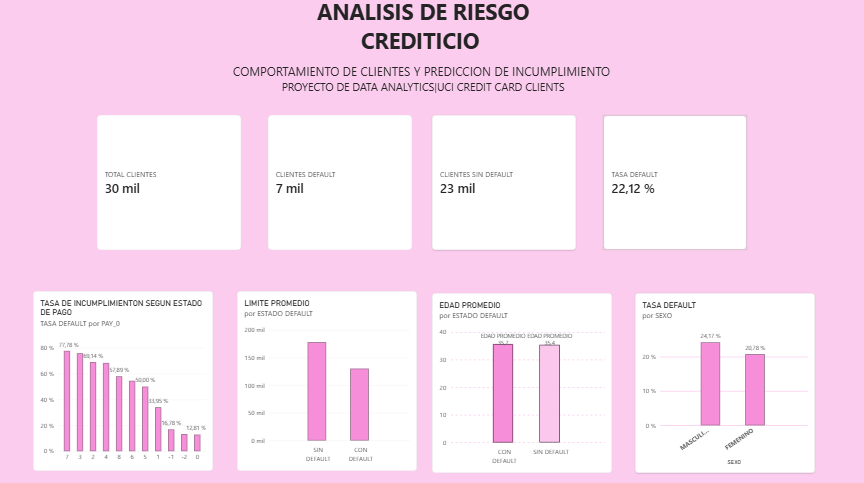

This screenshot's page, from the dashboard's own definition file:
{"tool":"powerbi","page":{"name":"Página 1","canvas":[1920,1080],"ordinal":0},"visuals":[{"type":"clusteredColumnChart","fields":{"Category":["credit_card_clients.SEXO"],"Y":["credit_card_clients.tasa default"]},"box":[1410,657.5,400,400],"z":3000},{"type":"clusteredColumnChart","title":"TASA DE INCUMPLIMIENTON SEGUN ESTADO DE PAGO","fields":{"Category":["credit_card_clients.PAY_0"],"Y":["credit_card_clients.TASA DEFAULT","select"]},"box":[72.5,652.5,400,400],"z":4000},{"type":"clusteredColumnChart","fields":{"Category":["credit_card_clients.ESTADO DEFAULT"],"Y":["credit_card_clients.LIMITE PROMEDIO"]},"box":[527.5,652.5,400,400],"z":4001},{"type":"clusteredColumnChart","fields":{"Category":["credit_card_clients.ESTADO DEFAULT"],"Y":["credit_card_clients.EDAD PROMEDIO"]},"box":[960,657.5,400,400],"z":4002},{"type":"textbox","box":[117.5,0,1645,280],"z":4003},{"type":"cardVisual","fields":{"Data":["credit_card_clients.TOTAL CLIENTES"]},"box":[215,262.5,320,300],"z":4004},{"type":"cardVisual","fields":{"Data":["credit_card_clients.CLIENTES DEFAULT"]},"box":[595,262.5,320,300],"z":4005},{"type":"cardVisual","fields":{"Data":["credit_card_clients.CLIENTES SIN DEFAULT"]},"box":[960,262.5,320,300],"z":4006},{"type":"cardVisual","fields":{"Data":["credit_card_clients.TASA DEFAULT"]},"box":[1340,262.5,320,300],"z":4007}]}

Visuals, with their boxes in screenshot pixels (x1, y1, x2, y2), scaled from the page's 1920x1080 canvas onto the 864x483 screenshot:
clusteredColumnChart - credit_card_clients.SEXO x credit_card_clients.tasa default: bbox=(634, 294, 814, 473)
"TASA DE INCUMPLIMIENTON SEGUN ESTADO DE PAGO" clusteredColumnChart: bbox=(33, 292, 213, 471)
clusteredColumnChart - credit_card_clients.ESTADO DEFAULT x credit_card_clients.LIMITE PROMEDIO: bbox=(237, 292, 417, 471)
clusteredColumnChart - credit_card_clients.ESTADO DEFAULT x credit_card_clients.EDAD PROMEDIO: bbox=(432, 294, 612, 473)
textbox: bbox=(53, 0, 793, 125)
cardVisual - credit_card_clients.TOTAL CLIENTES: bbox=(97, 117, 241, 252)
cardVisual - credit_card_clients.CLIENTES DEFAULT: bbox=(268, 117, 412, 252)
cardVisual - credit_card_clients.CLIENTES SIN DEFAULT: bbox=(432, 117, 576, 252)
cardVisual - credit_card_clients.TASA DEFAULT: bbox=(603, 117, 747, 252)
